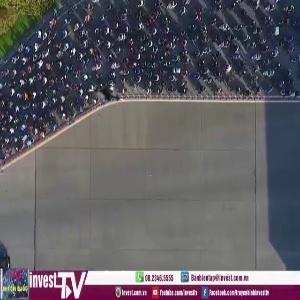drone: (87, 81, 128, 122)
